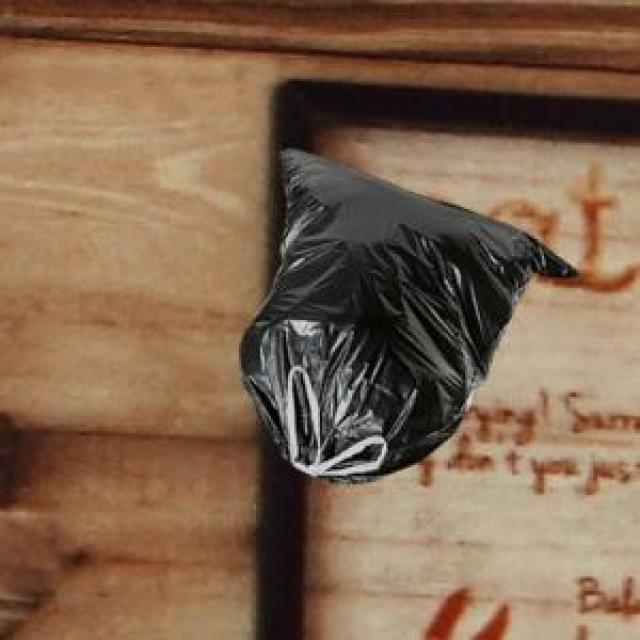miscellaneous trash: (237, 145, 574, 480)
